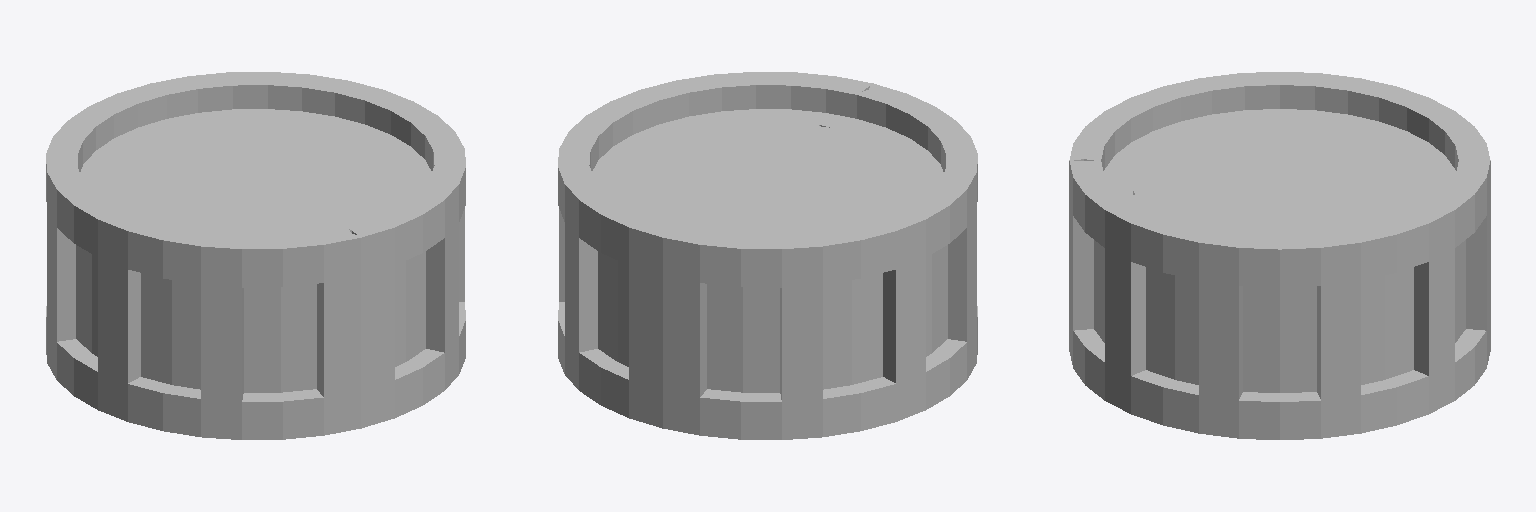
Rendered from GPSNotAWheel.obj.
The picture shows the model from 3 angles: view 1: azimuth 30°, elevation 25°; view 2: azimuth 150°, elevation 25°; view 3: azimuth 270°, elevation 25°; orthographic projection.
Visible parts, largest first — view 1: Cylinder; view 2: Cylinder; view 3: Cylinder.
Part boxes in pixels (x1,y1,x2,y2): Cylinder: (46,72,465,439); Cylinder: (558,72,977,439); Cylinder: (1069,72,1490,439).
Size of the model in its own units: 1 by 0.5 by 1.